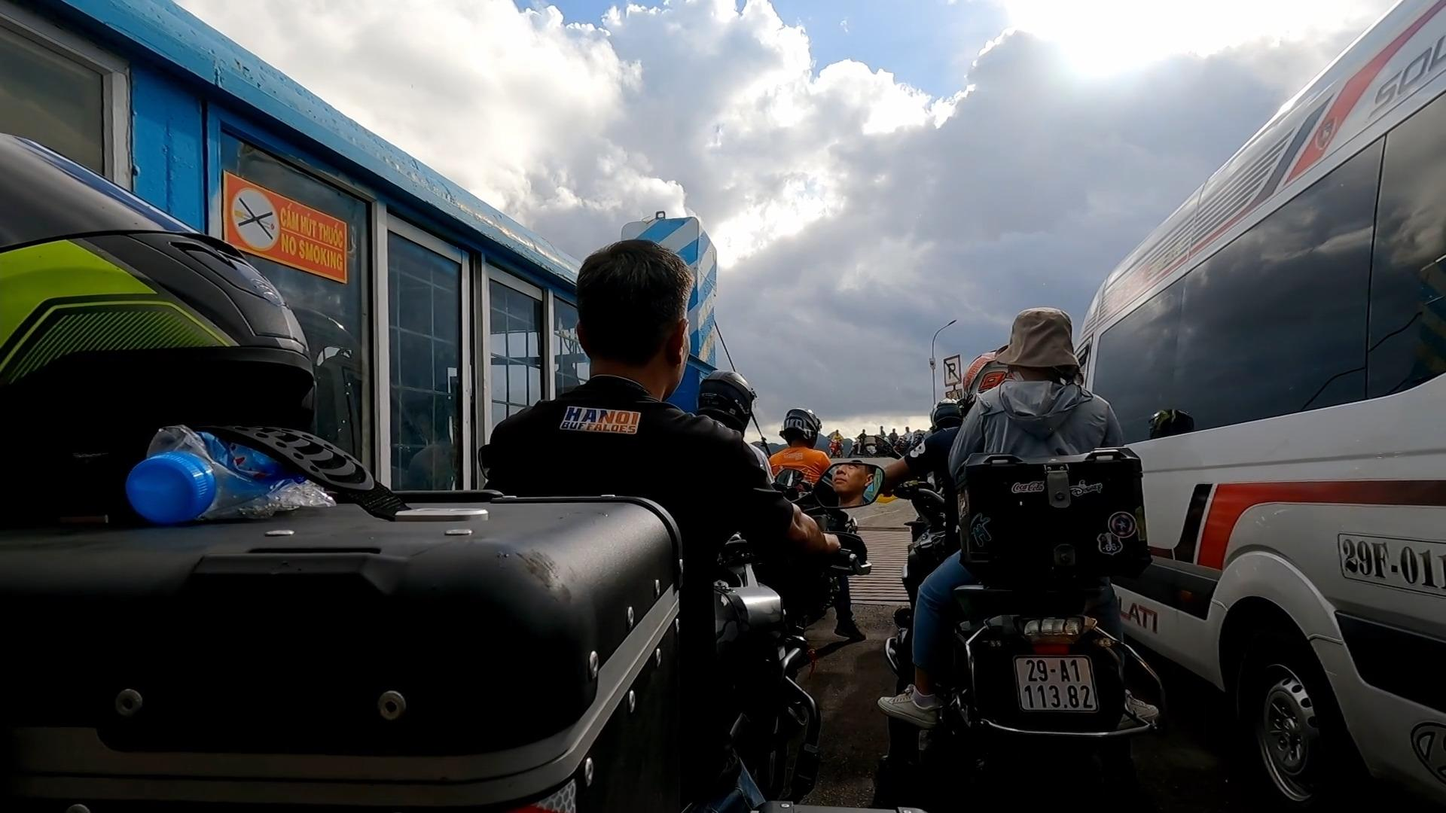driver: (0, 129, 887, 813), (876, 308, 1170, 813)
helmet: (699, 369, 759, 431), (963, 351, 1017, 404), (784, 407, 822, 450), (931, 397, 963, 428)
no-helmet: (576, 238, 696, 401), (996, 308, 1080, 383)
